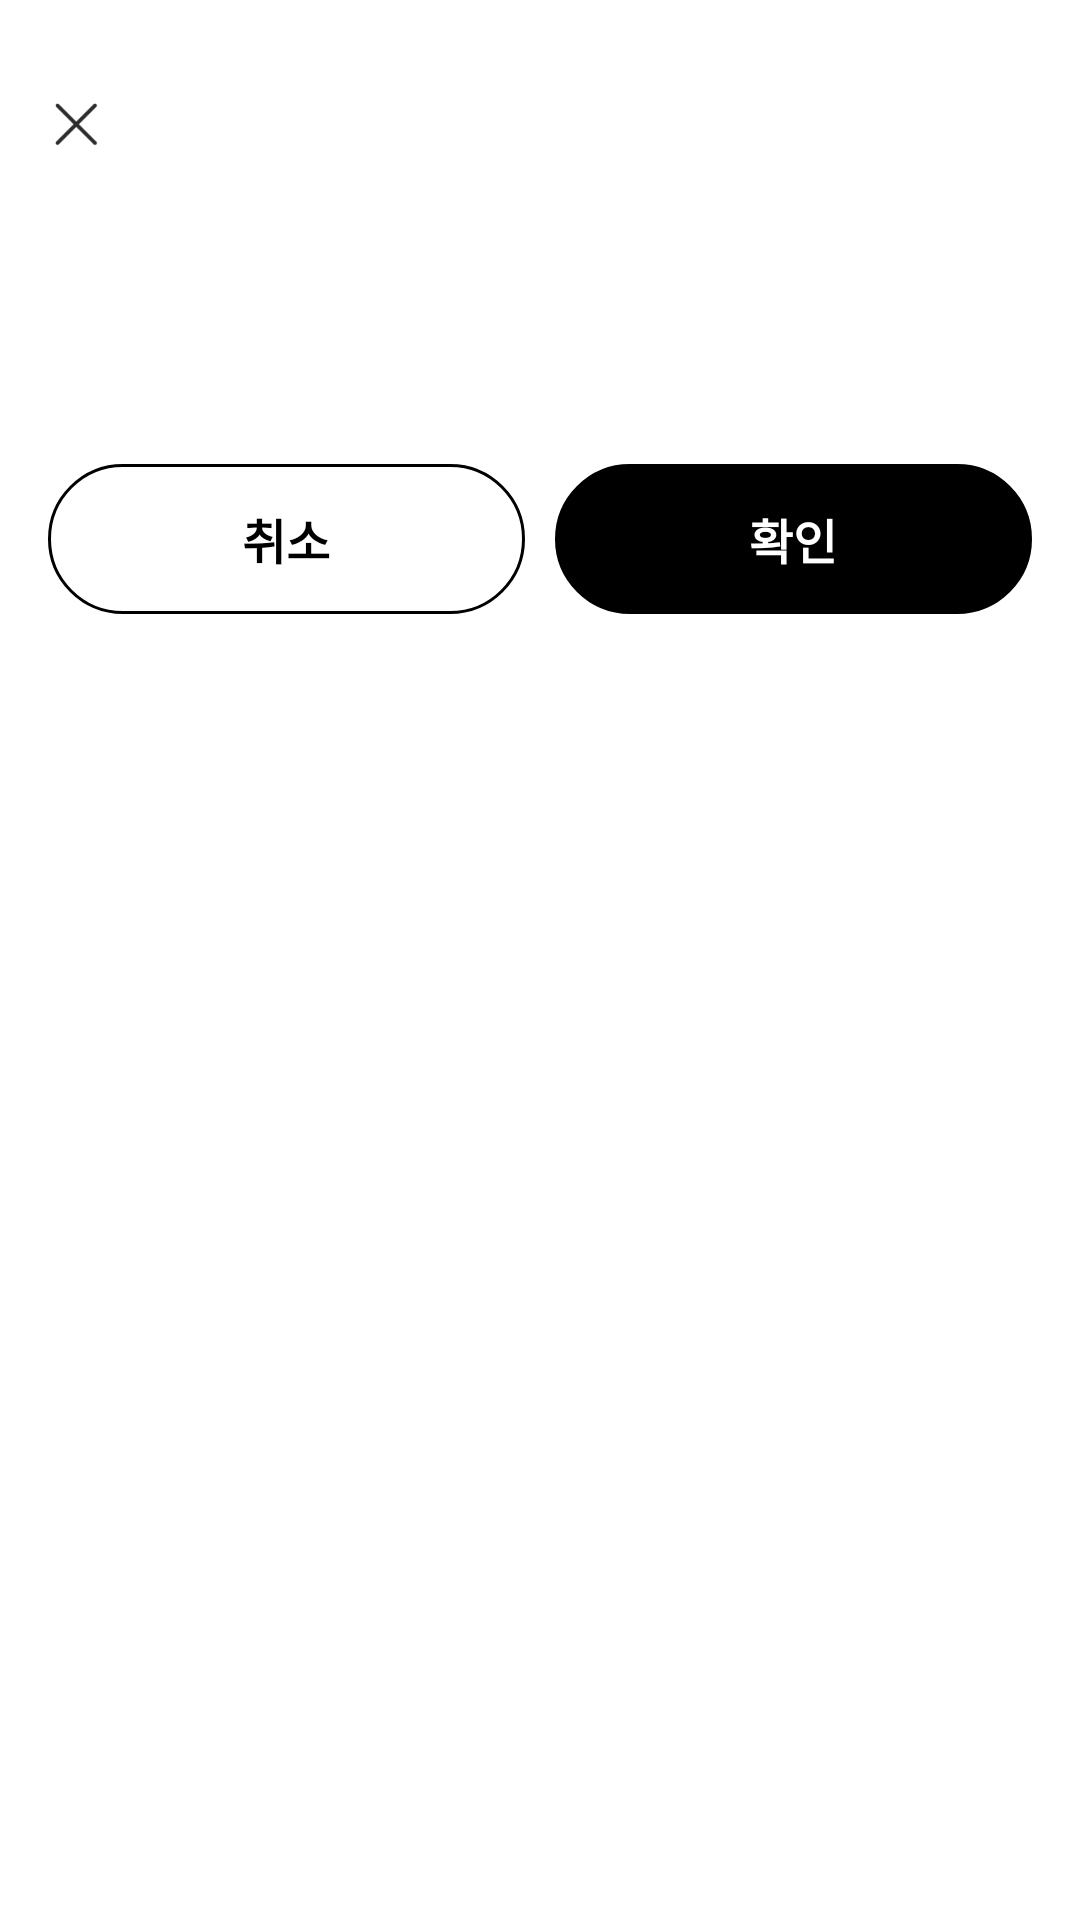

Point at icon controls on the screen. Image size 1080 x 1920, points as point (x, y).
close: point (76, 124)
